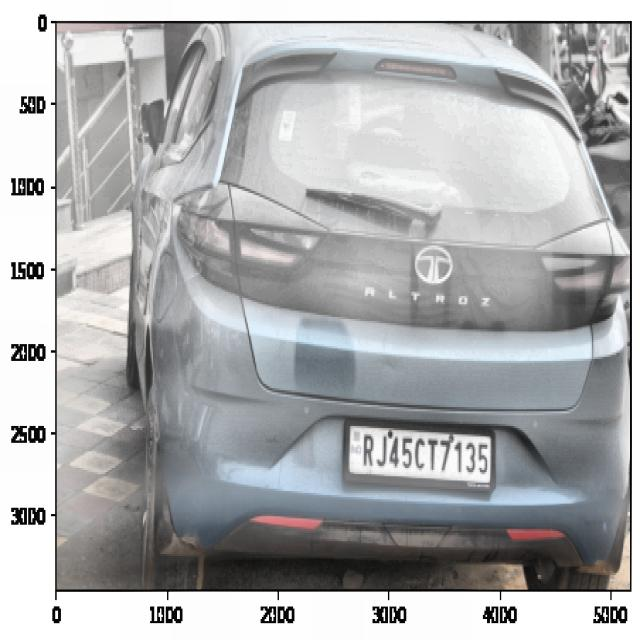license_plate: (358, 424, 492, 484)
